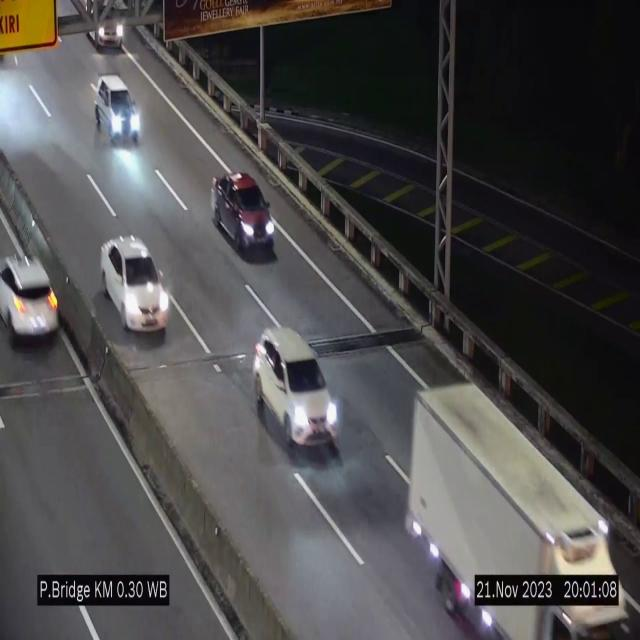Car: (254, 328, 342, 452), (100, 235, 168, 336), (211, 172, 276, 258), (0, 242, 57, 340), (95, 75, 142, 143), (80, 0, 128, 51)
Truck: (405, 380, 634, 640)
